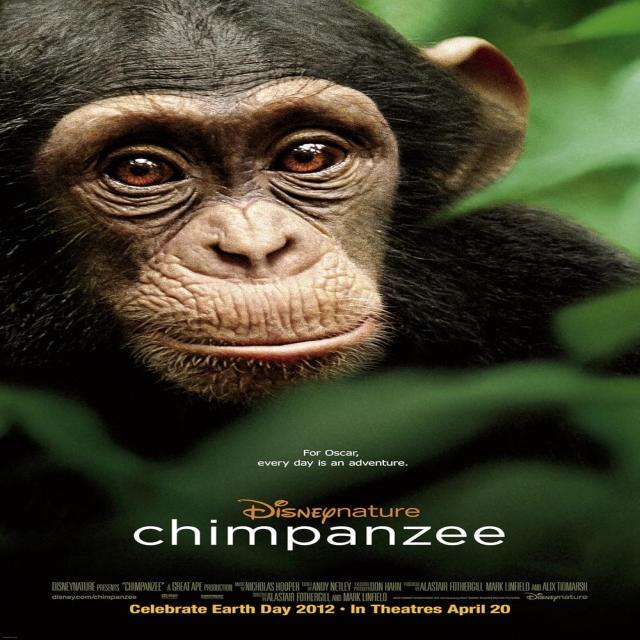Chimpanzee: (0, 0, 604, 407)
